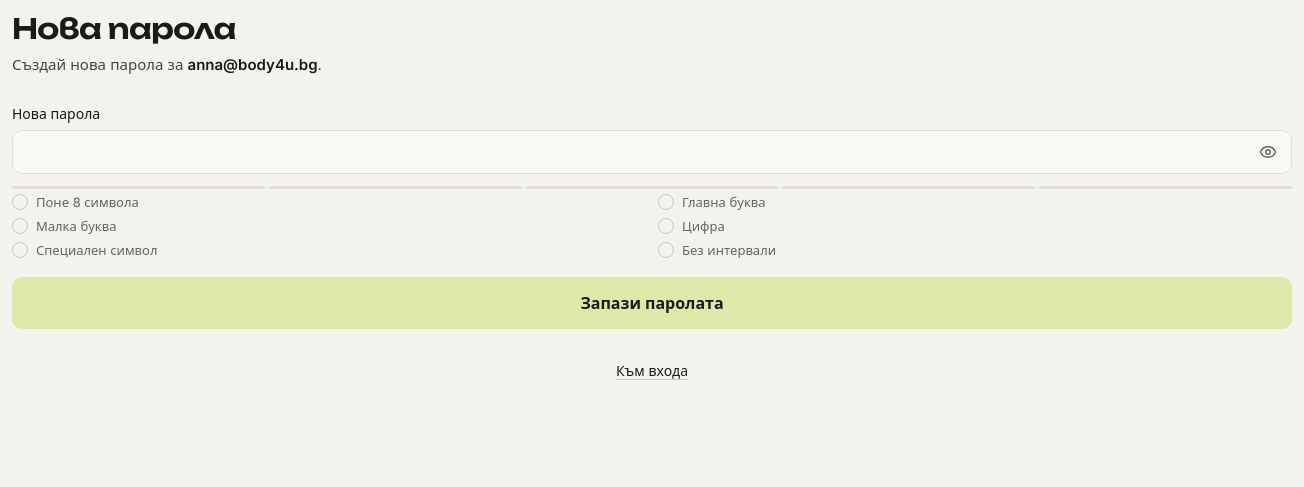
ResetPasswordPage › locks submit after too many attempts (429)
Type "NovaParola1!" into the password field labelled "Нова парола" at [652, 152], box [12, 130, 1292, 174]
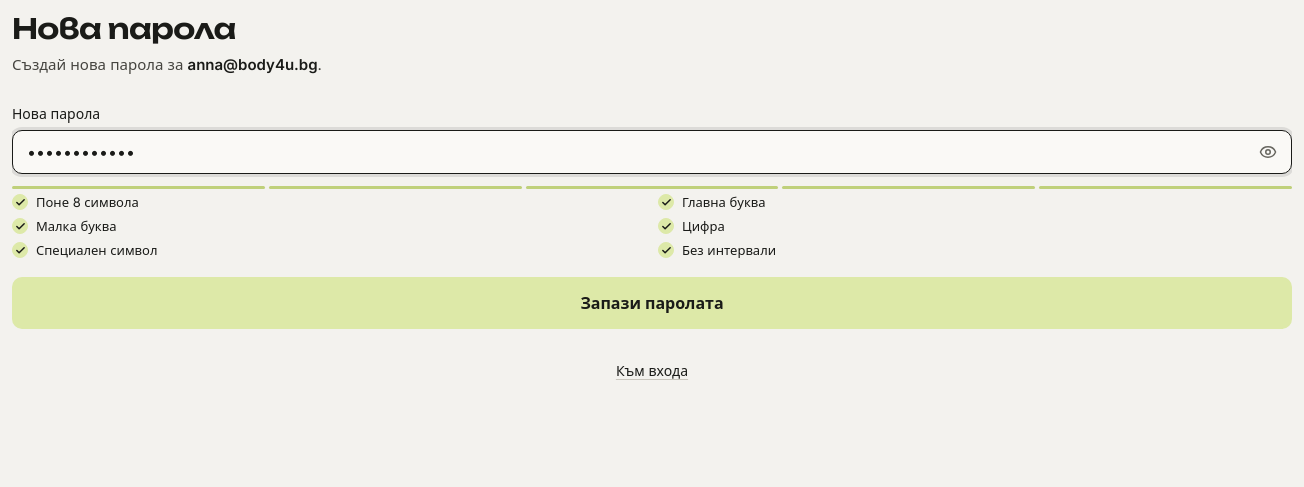
Click the button "Запази паролата" at [652, 303], box [12, 277, 1292, 329]
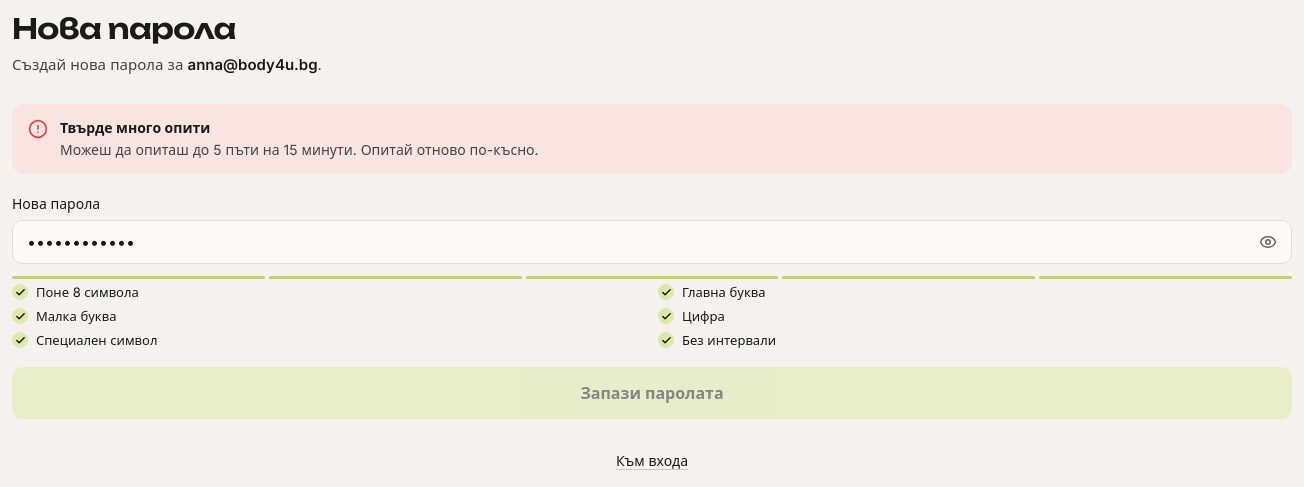
Expected: the text "Можеш да опиташ до 5 пъти на 15 минути. Опитай отново по-късно." is shown, [60, 141, 539, 158]
Expected: the button "Запази паролата" is disabled, [12, 367, 1292, 419]
